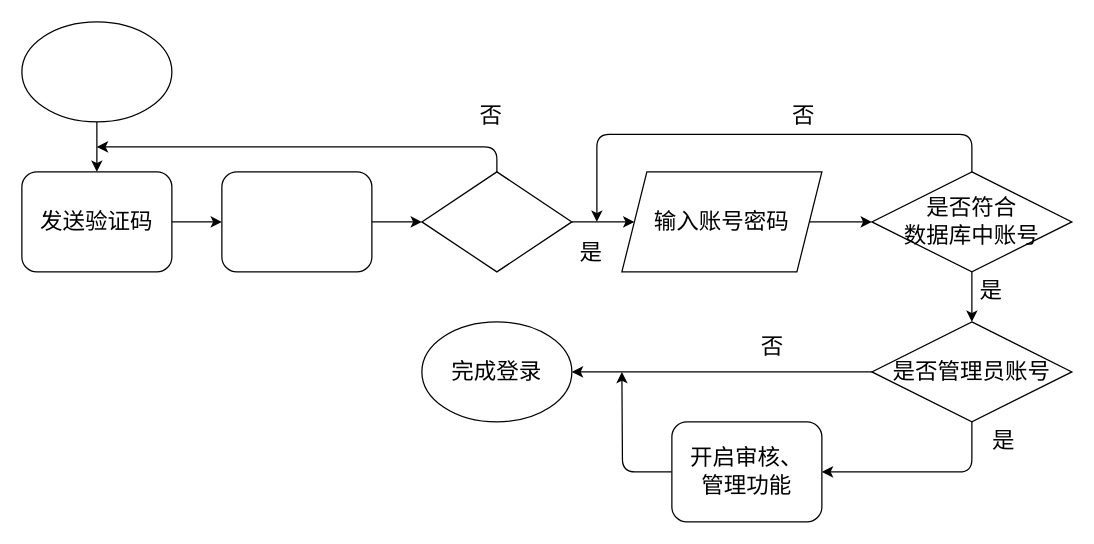
This 1094x544 diagram has some shape labels left out. The centre of each missing label's shape, as x and y in pixels:
开始: point (96, 71)
登录: point (296, 221)
验证码正确？: point (496, 221)
